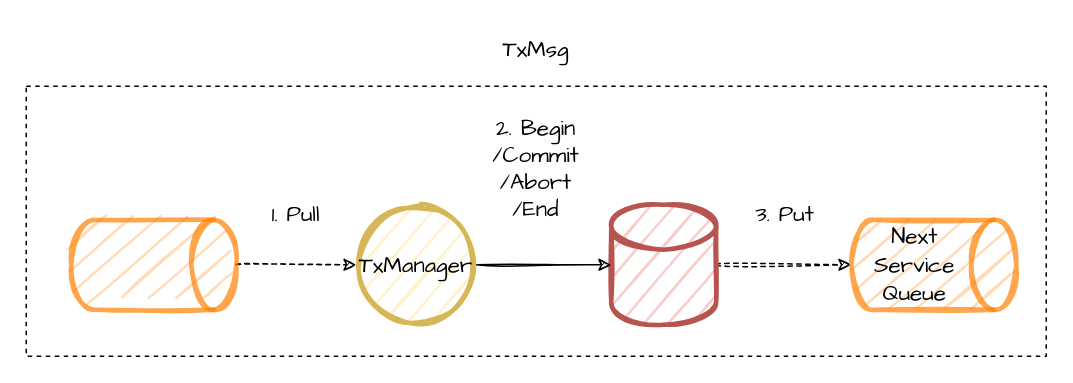
This 1073x383 diagram has some shape labels left out. The centre of each missing label's shape, as x and y in pixels:
"Manager DB" belongs at point (663, 264).
"Manager Queue" belongs at point (153, 264).
